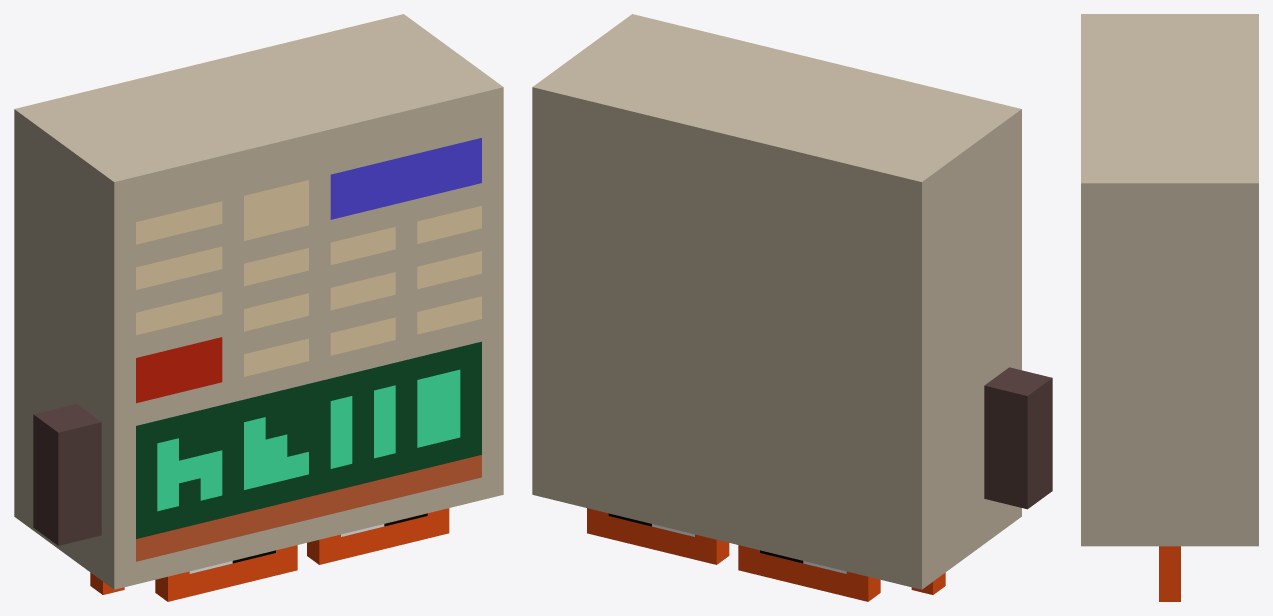
The model's file is calculator.glb.
3 views of the same model, side by side, from view 1: azimuth 30°, elevation 25°; view 2: azimuth 150°, elevation 25°; view 3: azimuth 270°, elevation 25° (orthographic). The views are drawn at different scales.
Parts seen in each view (by area): view 1: base, screen, rightButton, glasses; view 2: base, rightButton, glasses; view 3: base, glasses.
Boxes of the visible parts, <box> form: base: <box>14,14,503,589</box>; screen: <box>136,138,481,538</box>; rightButton: <box>33,404,101,545</box>; glasses: <box>90,508,449,601</box>; base: <box>532,14,1021,589</box>; rightButton: <box>984,367,1052,509</box>; glasses: <box>587,508,945,601</box>; base: <box>1081,14,1258,546</box>; glasses: <box>1159,546,1180,601</box>.
Size of the model in its own units: 20 by 21 by 8.
12 materials, 12 textured.
